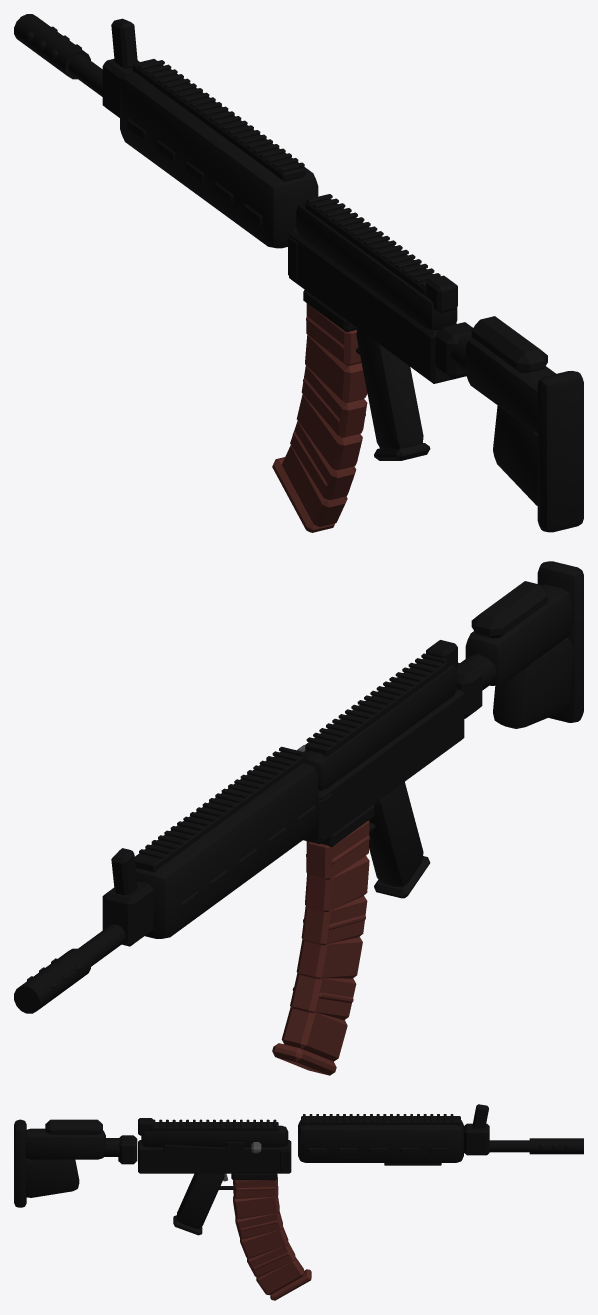
Rendered from ru_rifle.glb.
3 renders of one model, top to bottom at view 1: azimuth 30°, elevation 25°; view 2: azimuth 150°, elevation 25°; view 3: azimuth 270°, elevation 25°, orthographic. The views are drawn at different scales.
Visible parts, largest first — view 1: ru_rifle_LOD0; view 2: ru_rifle_LOD0; view 3: ru_rifle_LOD0.
Part boxes in pixels (x1,y1,x2,y2): ru_rifle_LOD0: [14, 14, 583, 532]; ru_rifle_LOD0: [14, 561, 583, 1075]; ru_rifle_LOD0: [14, 1104, 583, 1300].
Size of what is drawn, in the model's own units: 0.0645 by 0.3326 by 0.8915.
